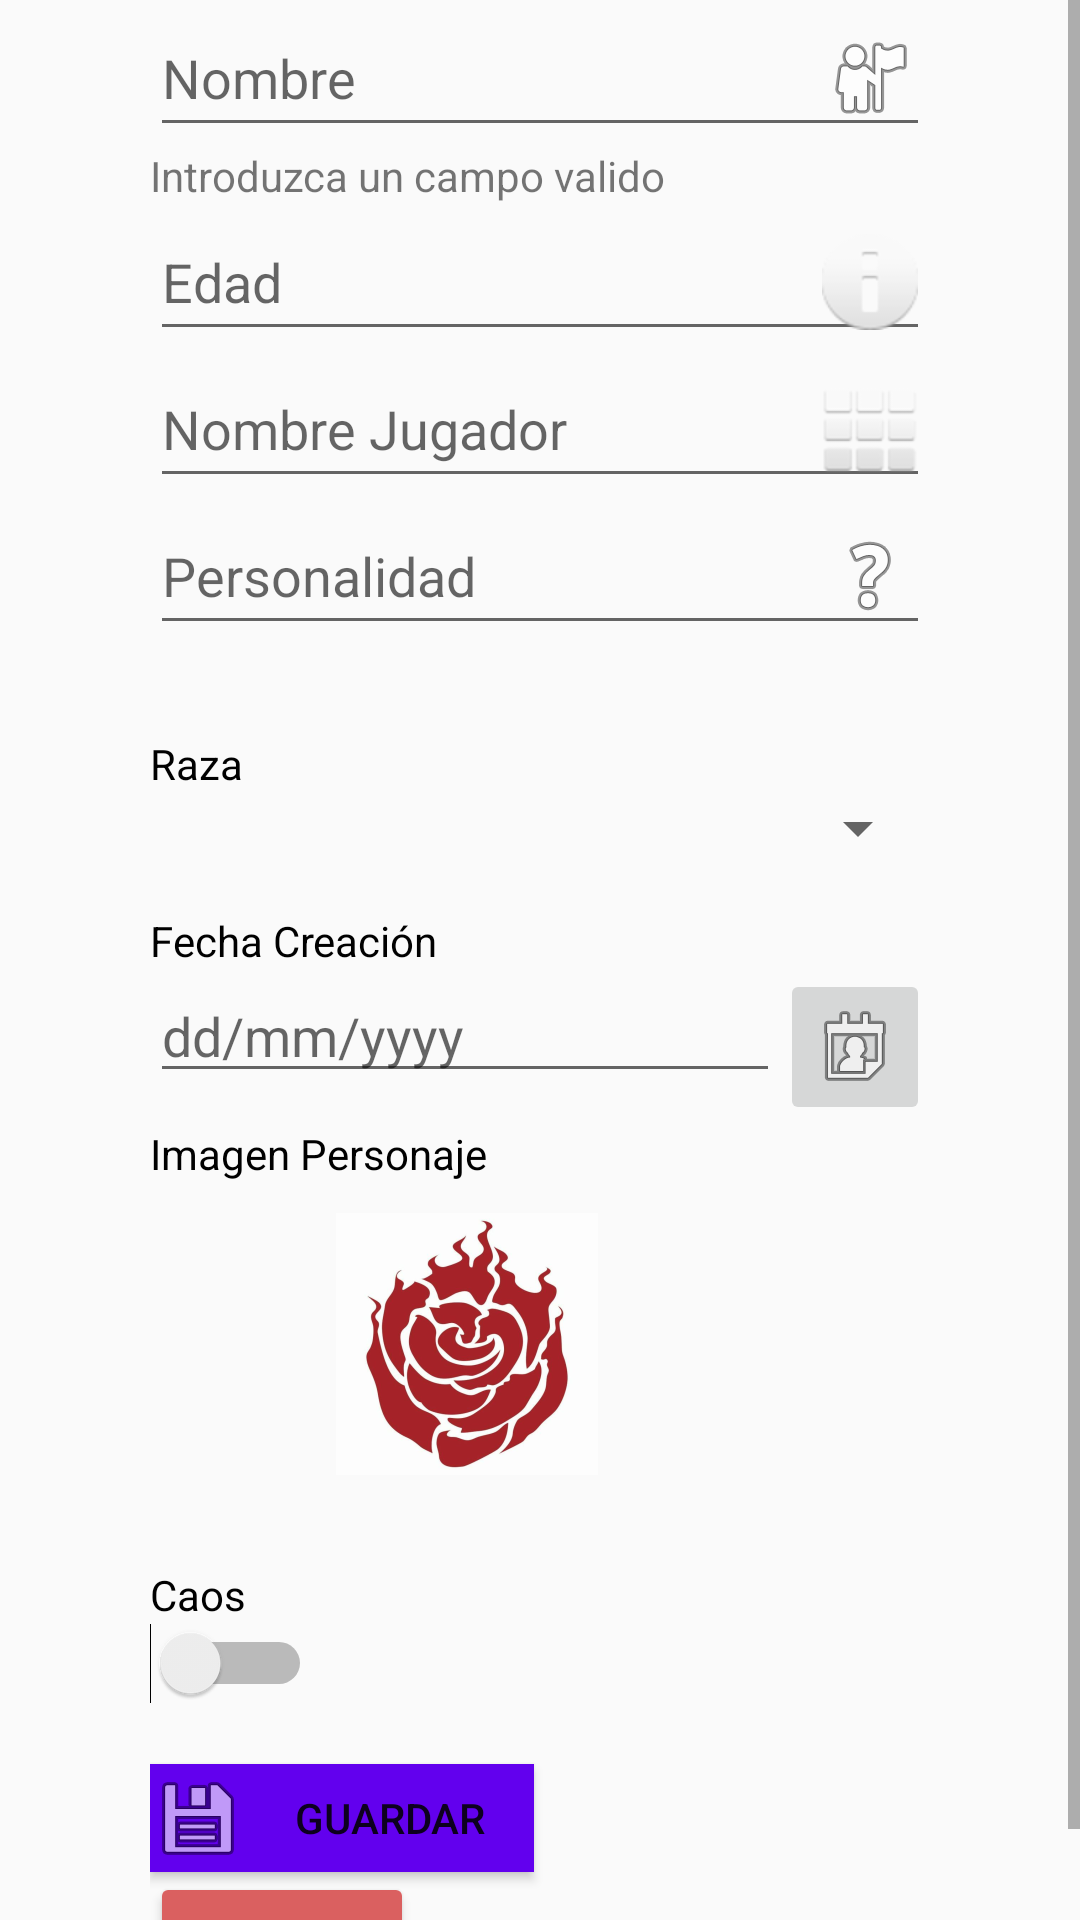

Icon click points for this 1080px×1920px phone screenshot, format point (x, y):
calendar: point (855, 1047)
